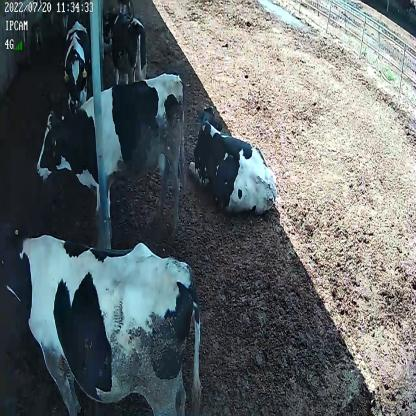cow: (0, 214, 202, 416), (35, 71, 186, 230), (188, 104, 279, 216), (107, 8, 149, 84), (62, 20, 92, 111)
